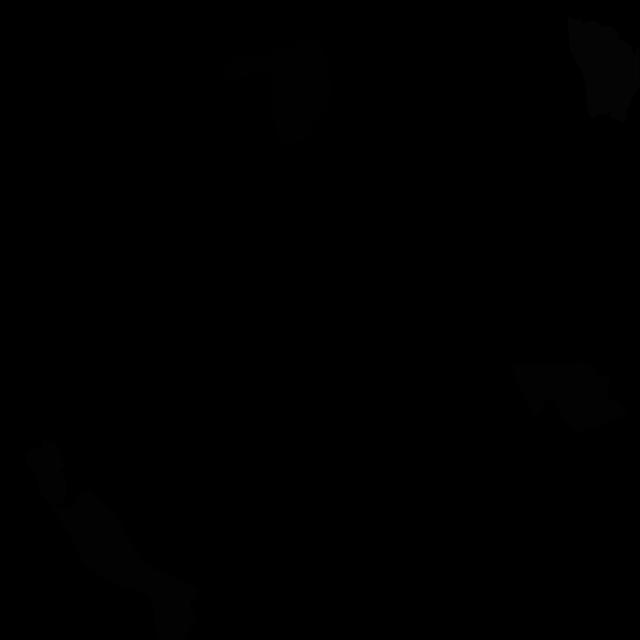cardboard: (52, 487, 200, 640), (510, 361, 630, 433), (24, 436, 68, 507)
rigid_plastic: (219, 40, 332, 150)
soft_plastic: (567, 15, 640, 123)
